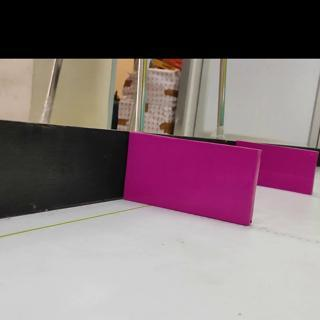xparking: (130, 149, 254, 215), (265, 152, 318, 192)
